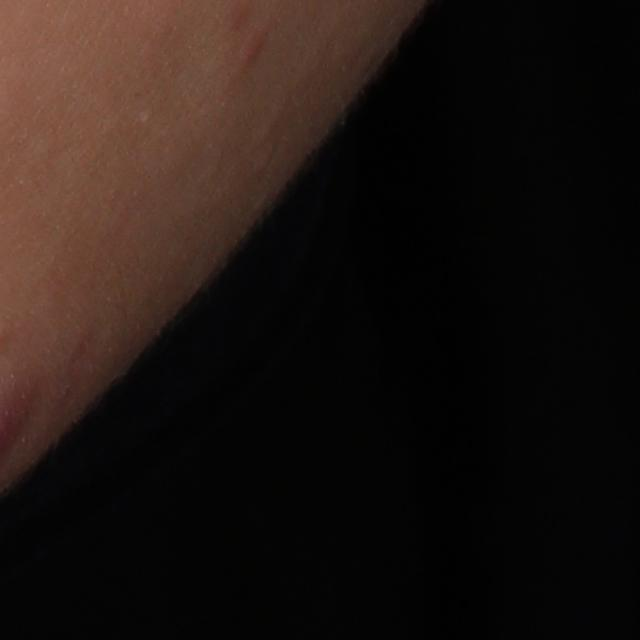papule: (235, 26, 269, 72)
